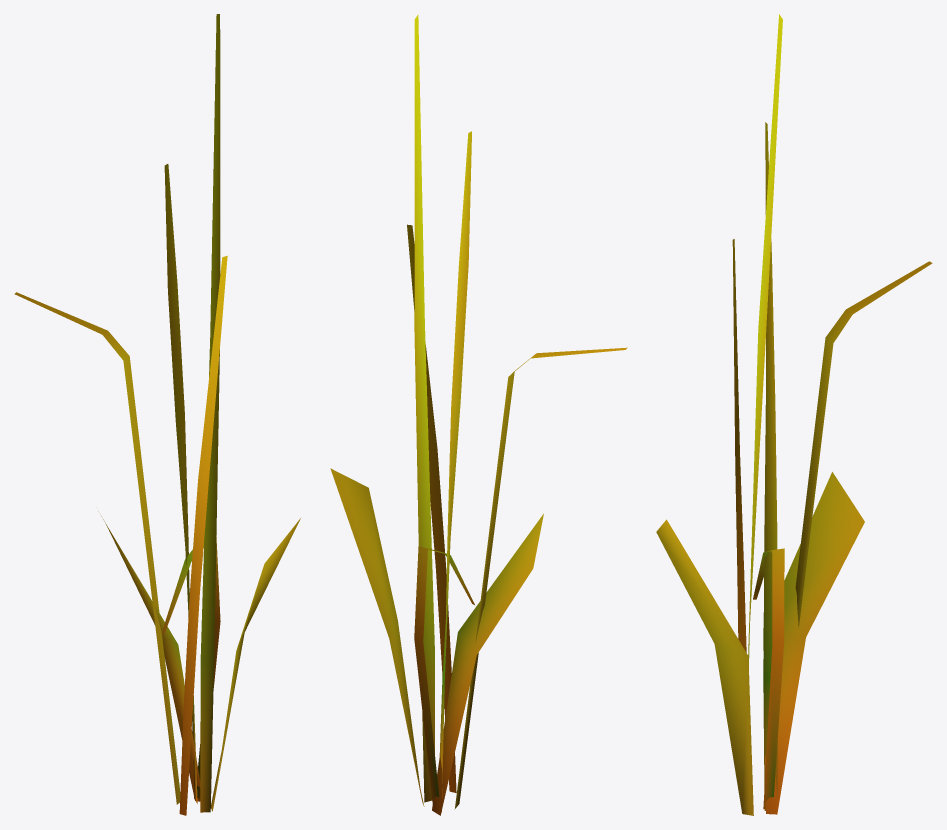
Rendered from SM_RicePlants_12.fbx.
3 views of the same model, side by side, from view 1: azimuth 30°, elevation 25°; view 2: azimuth 210°, elevation 25°; view 3: azimuth 270°, elevation 25° (orthographic). The views are drawn at different scales.
Parts seen in each view (by area): view 1: SM_RicePlants_12; view 2: SM_RicePlants_12; view 3: SM_RicePlants_12.
Boxes of the visible parts, bbox=[...] form: SM_RicePlants_12: bbox=[14, 14, 300, 815]; SM_RicePlants_12: bbox=[330, 14, 627, 815]; SM_RicePlants_12: bbox=[656, 14, 932, 815].
Size of the model in its own units: 0.3911 by 1.81 by 0.5597.
